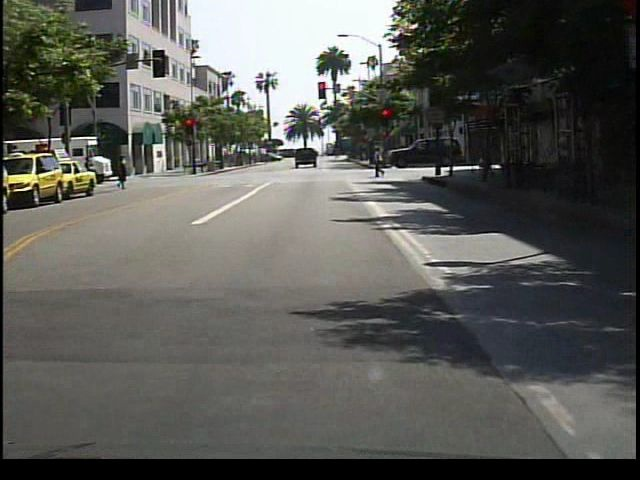person: (475, 138, 495, 183), (372, 147, 391, 181), (115, 157, 131, 192)
